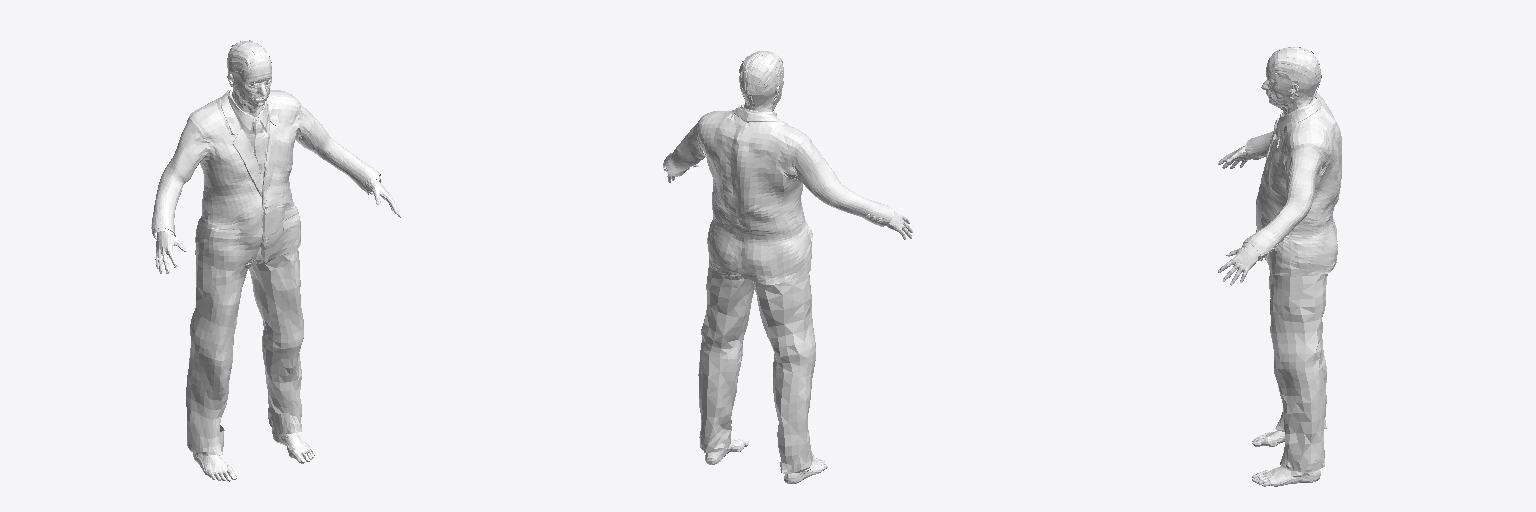
The model's file is Thomas.obj.
3 renders of one model, left to right at view 1: azimuth 30°, elevation 25°; view 2: azimuth 150°, elevation 25°; view 3: azimuth 270°, elevation 25°, orthographic.
Visible parts, largest first — view 1: male_elegantsuit01.obj, base.obj, short04.obj; view 2: male_elegantsuit01.obj, short04.obj, base.obj; view 3: male_elegantsuit01.obj, base.obj, short04.obj.
Part boxes in pixels (x1,y1,x2,y2): male_elegantsuit01.obj: (151,88,380,455); base.obj: (155,64,400,481); short04.obj: (227,40,271,90); male_elegantsuit01.obj: (663,104,893,473); short04.obj: (739,51,783,109); base.obj: (667,78,912,483); male_elegantsuit01.obj: (1242,93,1341,471); base.obj: (1218,60,1320,486); short04.obj: (1269,47,1321,99).
Size of the model in its own units: 10.47 by 17.23 by 4.7.